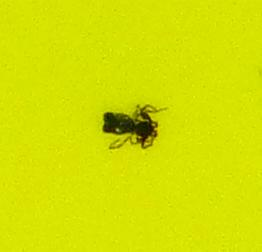Araneae: (100, 100, 162, 152)
